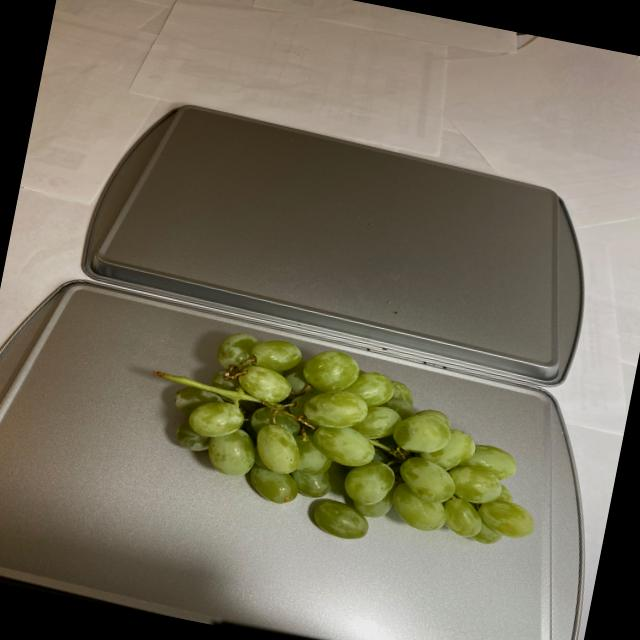grapes: (119, 315, 559, 574)
